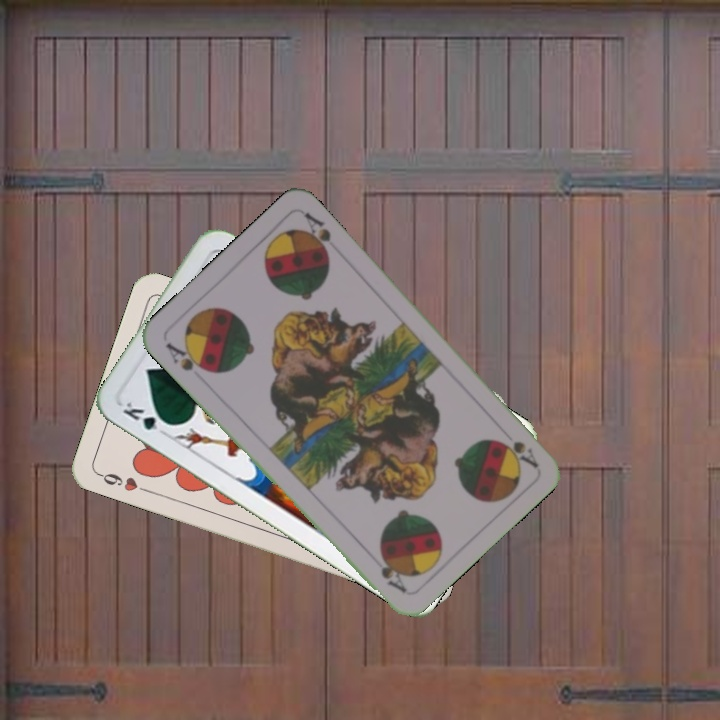GK: (119, 397, 174, 439)
H9: (94, 469, 152, 496)
SA: (161, 338, 214, 376), (497, 436, 541, 471)
